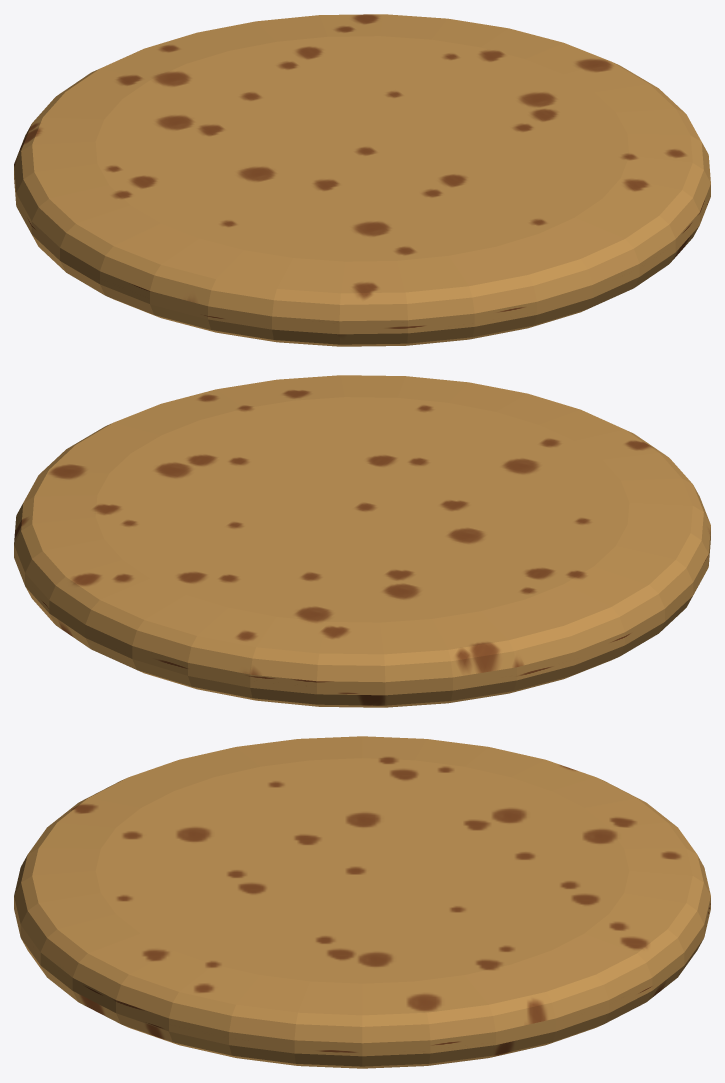
The model's file is Cookiemodel.fbx.
3 views of the same model, one above another, from view 1: azimuth 30°, elevation 25°; view 2: azimuth 150°, elevation 25°; view 3: azimuth 270°, elevation 25° (orthographic).
Parts seen in each view (by area): view 1: Cylinder; view 2: Cylinder; view 3: Cylinder.
Boxes of the visible parts, x1,y1,x2,y2 form: Cylinder: (14, 14, 710, 346); Cylinder: (14, 375, 710, 707); Cylinder: (14, 736, 710, 1068).
Bounding box in the file's own units: 200 × 20 × 200.
1 material, 1 textured.
